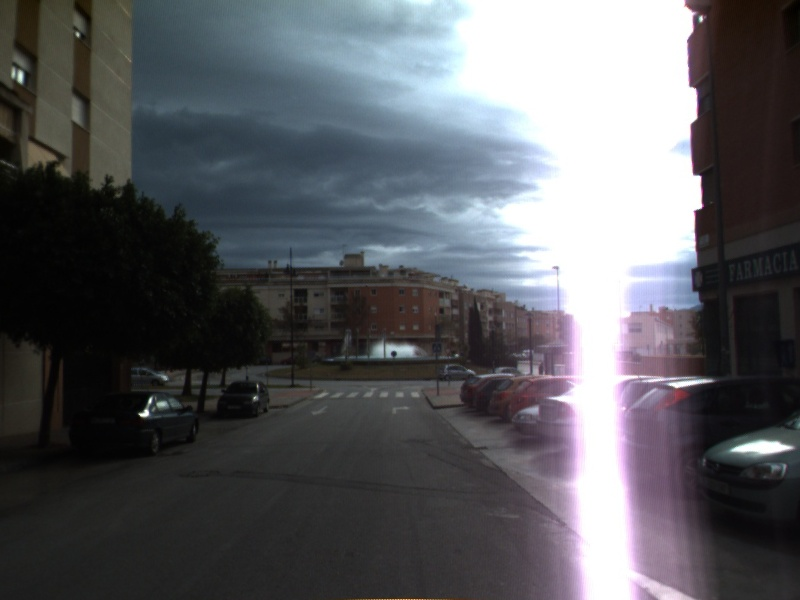RIGHT: (390, 403, 412, 416)
